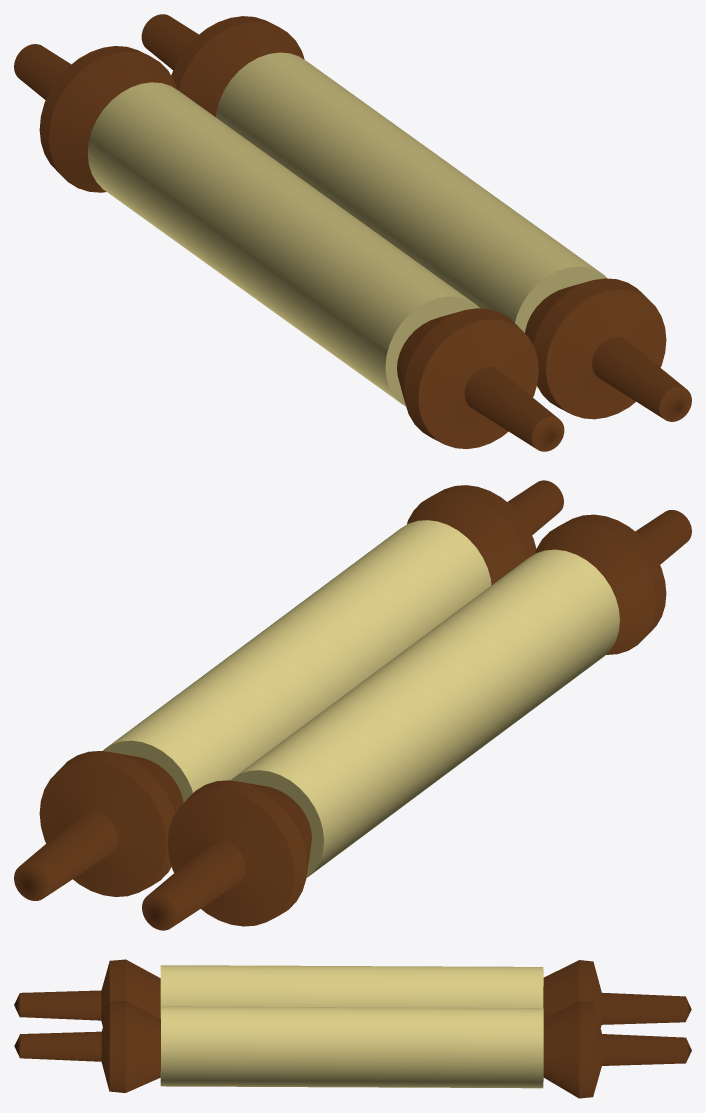
The model's file is parchemin.fbx.
The picture shows the model from 3 angles, top to bottom: view 1: azimuth 30°, elevation 25°; view 2: azimuth 150°, elevation 25°; view 3: azimuth 270°, elevation 25°; orthographic projection. The views are drawn at different scales.
Visible parts, largest first — view 1: Cylinder.002, Cylinder, Cylinder.003; view 2: Cylinder.002, Cylinder, Cylinder.003; view 3: Cylinder.002, Cylinder.003, Cylinder.
Boxes of the visible parts, <box> form: Cylinder.002: <box>87,52,607,406</box>; Cylinder: <box>14,44,564,451</box>; Cylinder.003: <box>141,14,691,421</box>; Cylinder.002: <box>103,520,619,877</box>; Cylinder: <box>142,510,691,930</box>; Cylinder.003: <box>14,480,563,900</box>; Cylinder.002: <box>160,965,543,1088</box>; Cylinder.003: <box>14,1000,691,1098</box>; Cylinder: <box>14,959,691,1027</box>.
Bounding box in the file's own units: 57.52 × 29.68 × 203.
